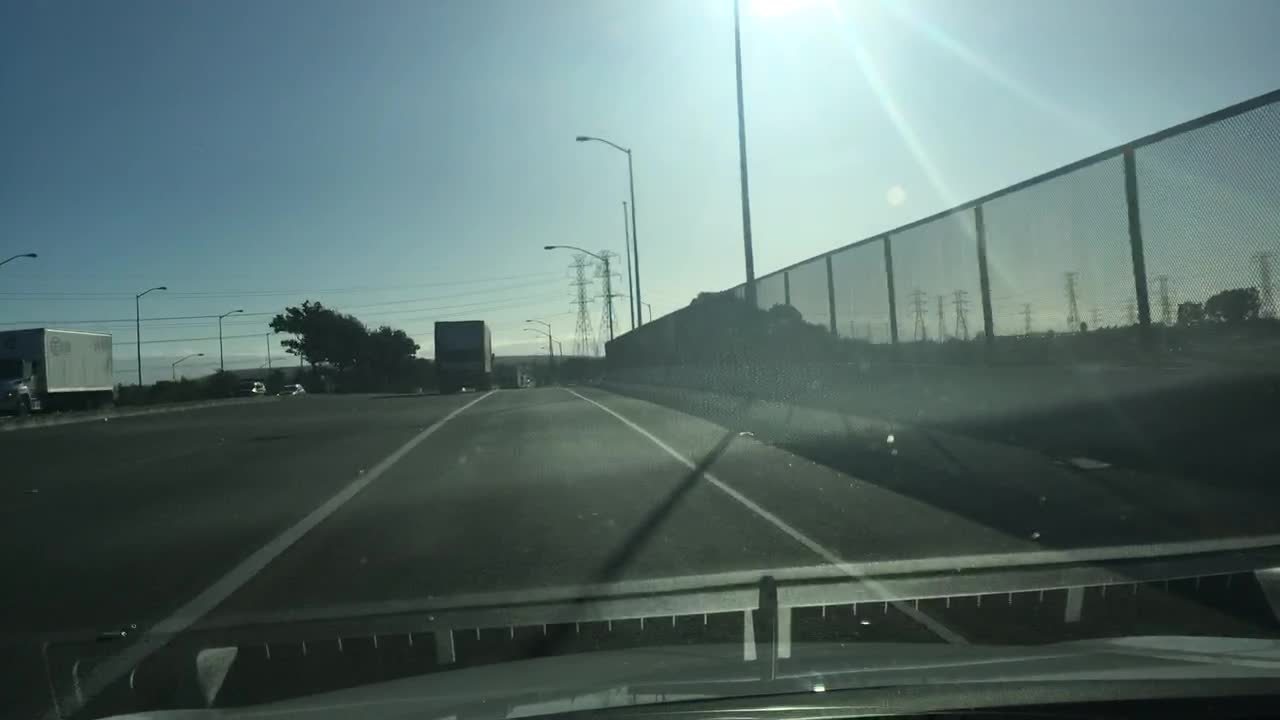car: (277, 382, 306, 396), (239, 381, 263, 396)
truck: (0, 326, 116, 416), (432, 319, 495, 390), (500, 362, 526, 392)
